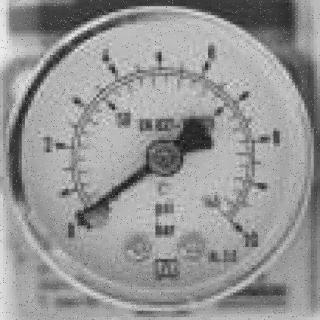gauge: (0, 0, 320, 320), (218, 200, 256, 250), (144, 140, 184, 182), (63, 200, 97, 236), (70, 205, 92, 228)
